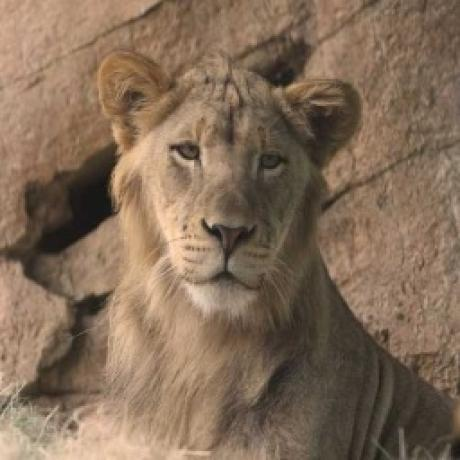Lion: (93, 48, 458, 460)
